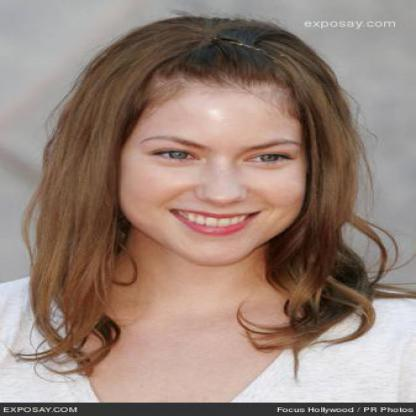long-hair: (14, 266, 379, 324)
